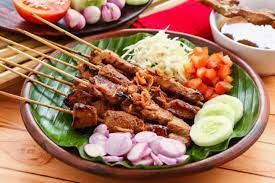sate: (55, 26, 249, 167)
